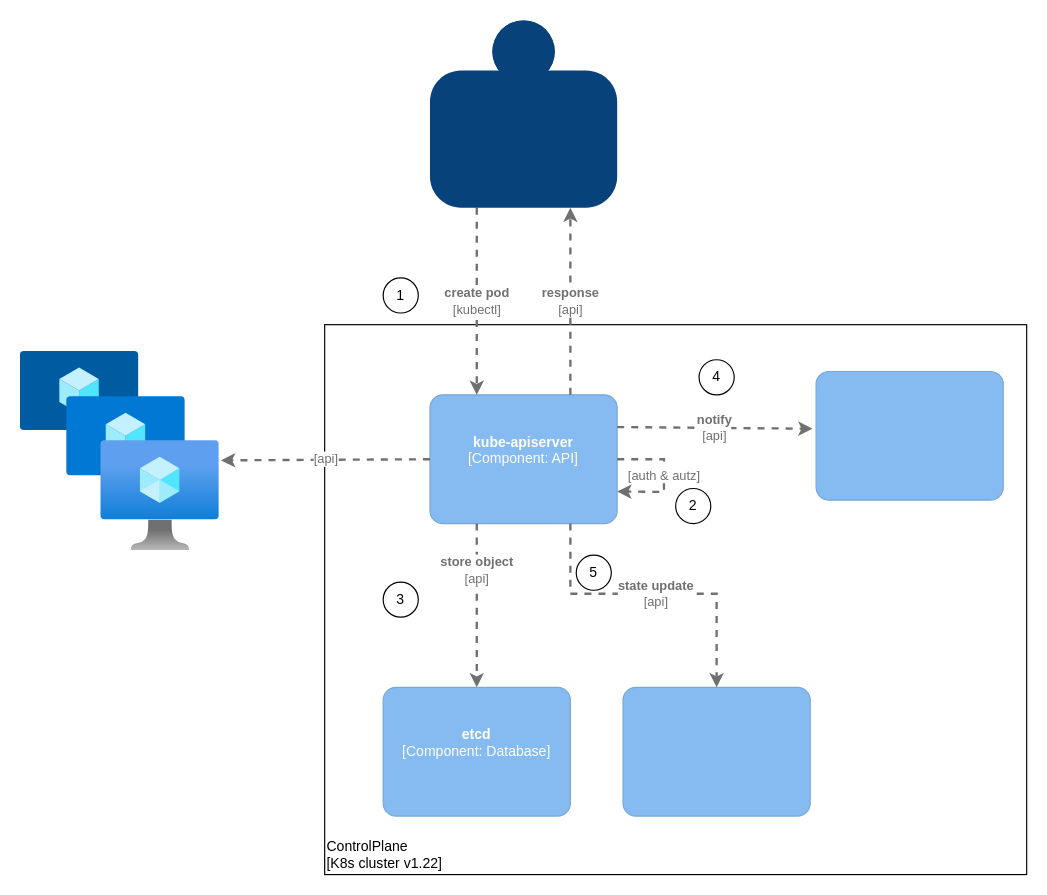
Image size: 1047x895. Some labels were removed from this diagram. The shapes that lost their labels are listed below. From the top down, each one's centre as x and y in pixels, then its label:
At point (523, 113): "K8s Administrator [User]".
At point (119, 450): "Worker Nodes".
At point (909, 435): "kube-scheduler [Component: API]".
At point (716, 751): "kube-control-manager [Component: API]".
